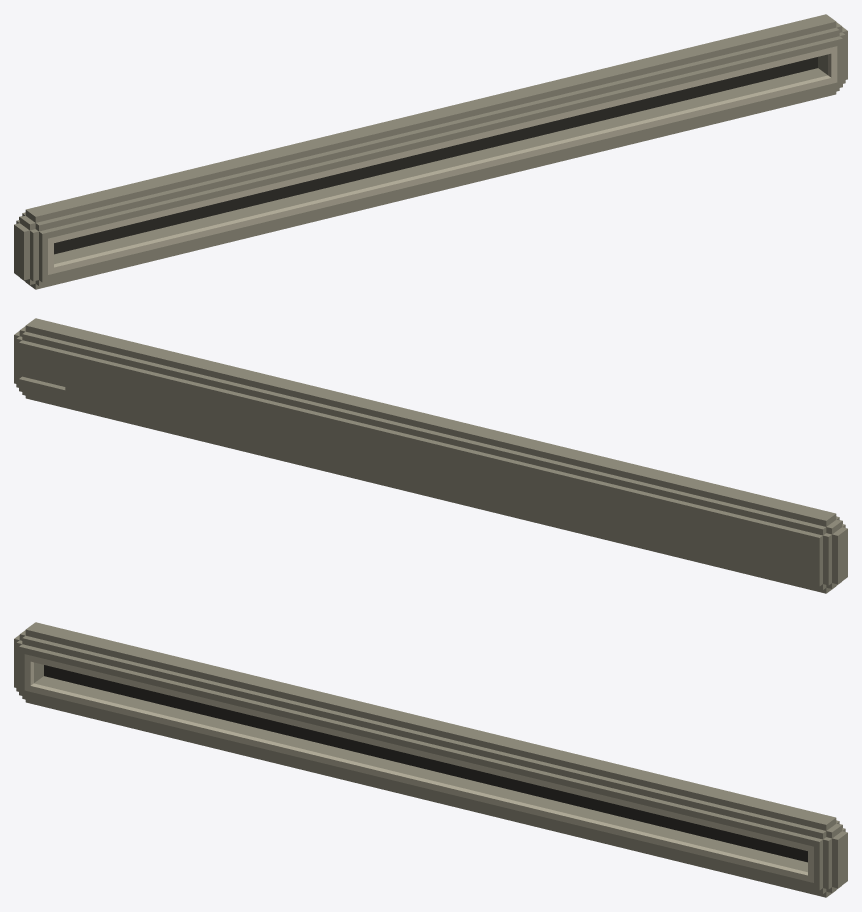
The model's file is factory4.2-11.obj.
The picture shows the model from 3 angles, top to bottom: view 1: azimuth 30°, elevation 25°; view 2: azimuth 150°, elevation 25°; view 3: azimuth 330°, elevation 25°; orthographic projection.
Bounding box in the file's own units: 14.2 × 1.2 × 0.7.
1 material, 1 textured.
